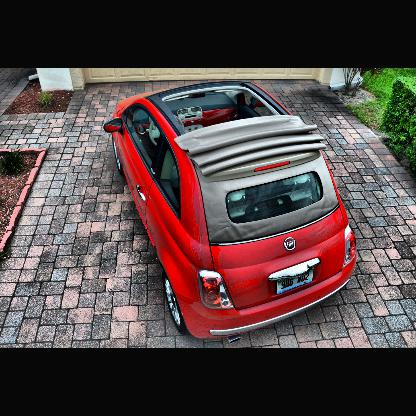FIAT 500 Convertible 2012: (106, 78, 358, 340)
